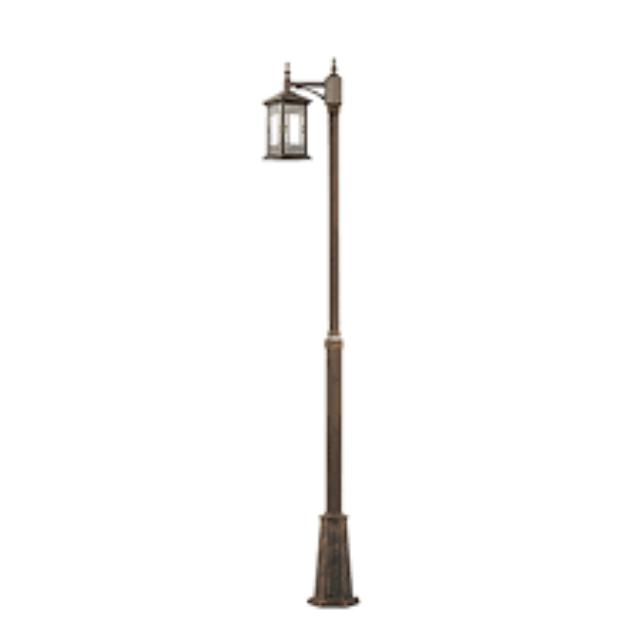Street-Lamp: (246, 48, 382, 618)
